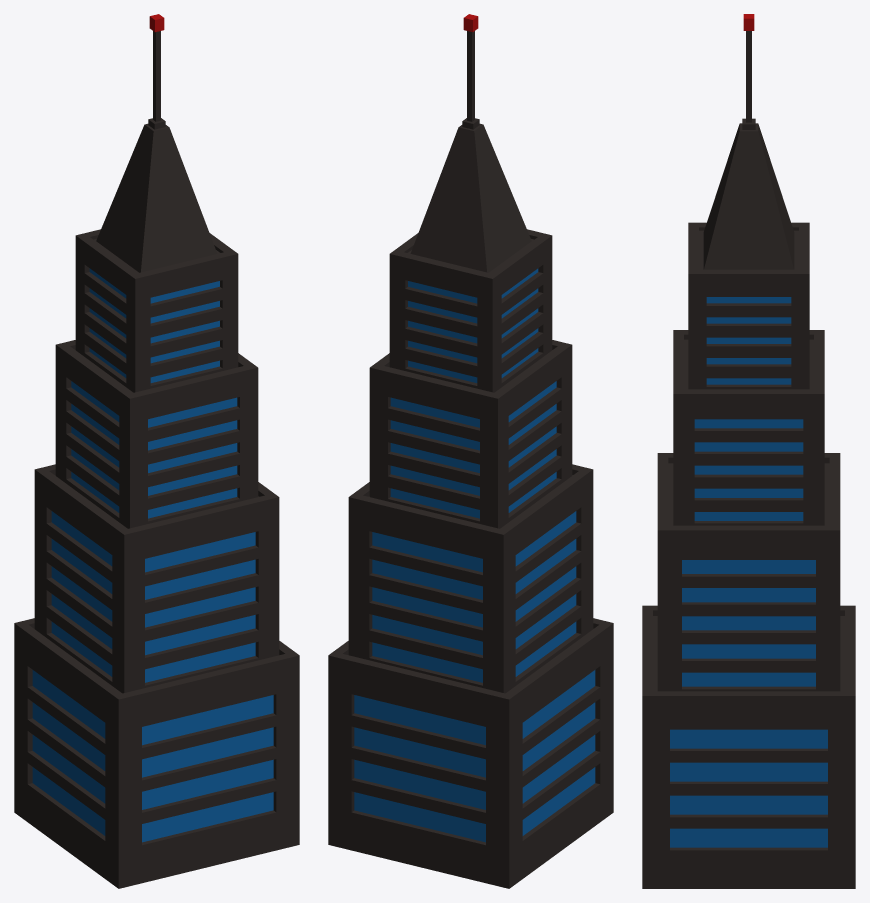
Rendered from House 4.FBX.
The picture shows the model from 3 angles, left to right: view 1: azimuth 30°, elevation 25°; view 2: azimuth 150°, elevation 25°; view 3: azimuth 270°, elevation 25°; orthographic projection.
Parts seen in each view (by area): view 1: House 4; view 2: House 4; view 3: House 4.
Part boxes in pixels (bbox=[...]): House 4: bbox=[14, 14, 299, 888]; House 4: bbox=[328, 14, 613, 888]; House 4: bbox=[642, 14, 855, 888].
Size of the model in its own units: 20 by 85.7 by 20.
